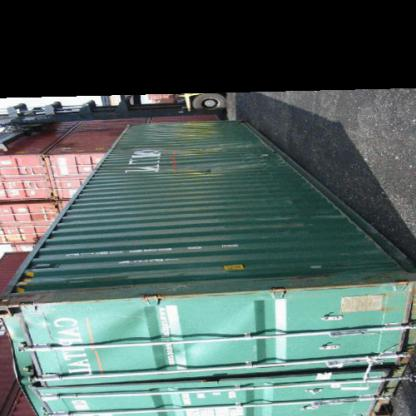Damage: (122, 121, 268, 193), (3, 288, 78, 414)
